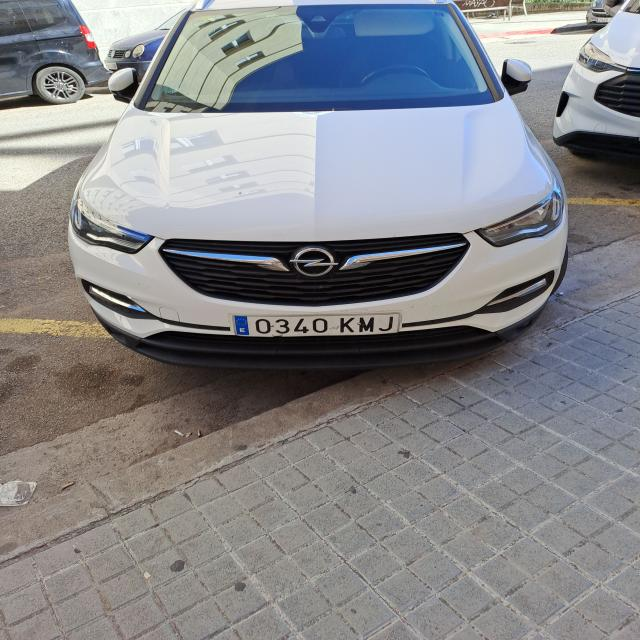license_plate-34Td: (231, 313, 401, 338)
